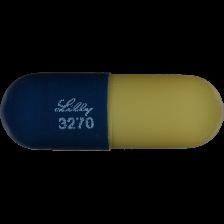55289-028: (0, 0, 224, 224)
